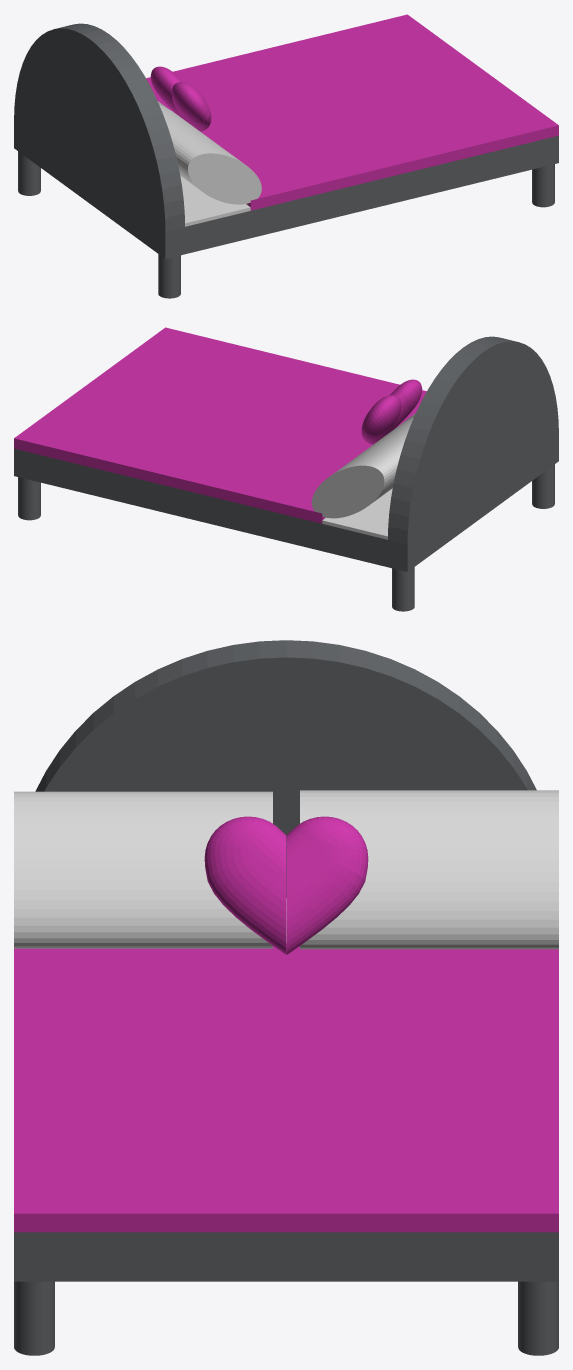
The model's file is mybed.glb.
The picture shows the model from 3 angles, top to bottom: view 1: azimuth 30°, elevation 25°; view 2: azimuth 150°, elevation 25°; view 3: azimuth 270°, elevation 25°; orthographic projection. The views are drawn at different scales.
Parts seen in each view (by area): view 1: Mesh_Mesh_head_geo.001_lambert2SG.001; view 2: Mesh_Mesh_head_geo.001_lambert2SG.001; view 3: Mesh_Mesh_head_geo.001_lambert2SG.001.
Boxes of the visible parts, <box> form: Mesh_Mesh_head_geo.001_lambert2SG.001: <box>14,14,558,298</box>; Mesh_Mesh_head_geo.001_lambert2SG.001: <box>14,327,558,611</box>; Mesh_Mesh_head_geo.001_lambert2SG.001: <box>14,640,558,1355</box>.
Size of the model in its own units: 0.06 by 0.03 by 0.04.
